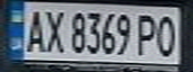3: (84, 8, 103, 55)
6: (100, 9, 118, 56)
8: (66, 8, 87, 55)
9: (115, 10, 136, 56)
A: (21, 7, 48, 54)
O: (151, 11, 181, 57)
P: (133, 10, 160, 56)
X: (39, 7, 66, 54)
